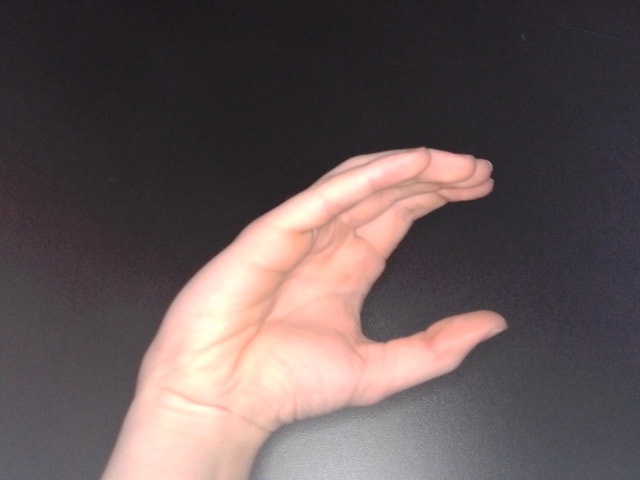c: (127, 142, 514, 443)
